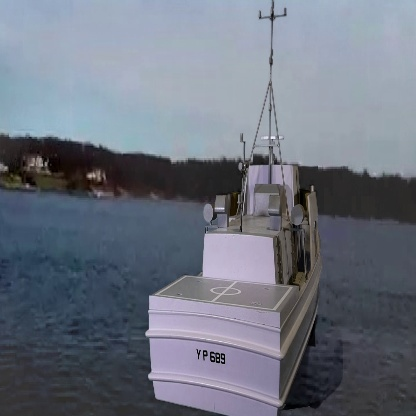YP689: (144, 0, 325, 416)
